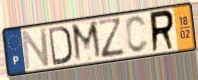C: (124, 14, 150, 55)
D: (47, 24, 73, 67)
M: (70, 19, 104, 64)
N: (21, 26, 52, 72)
R: (149, 8, 177, 55)
Z: (95, 16, 127, 61)
